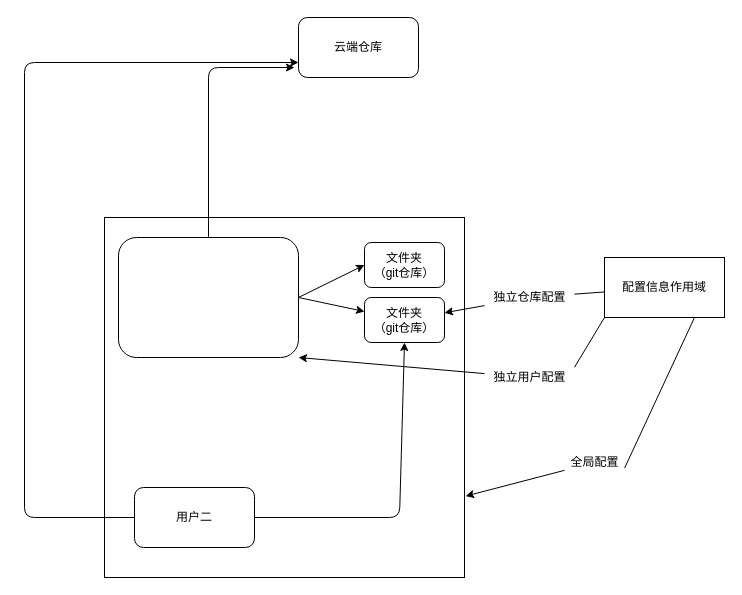
Some shapes in this 742 by 595 pixel diagram are drawn without their labels. Each missing label, with the box of its shape:
windows: (104, 216, 464, 578)
用户一: (118, 236, 298, 358)
